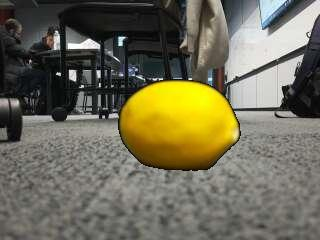lemon: (121, 82, 238, 168)
